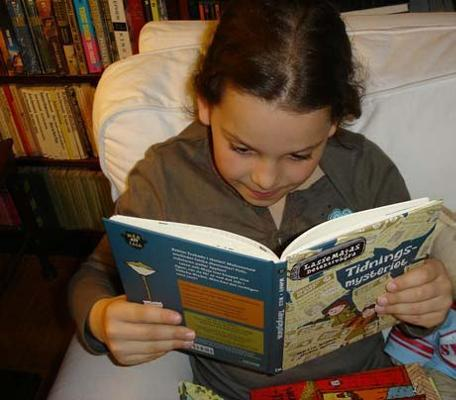person: (64, 3, 453, 400)
